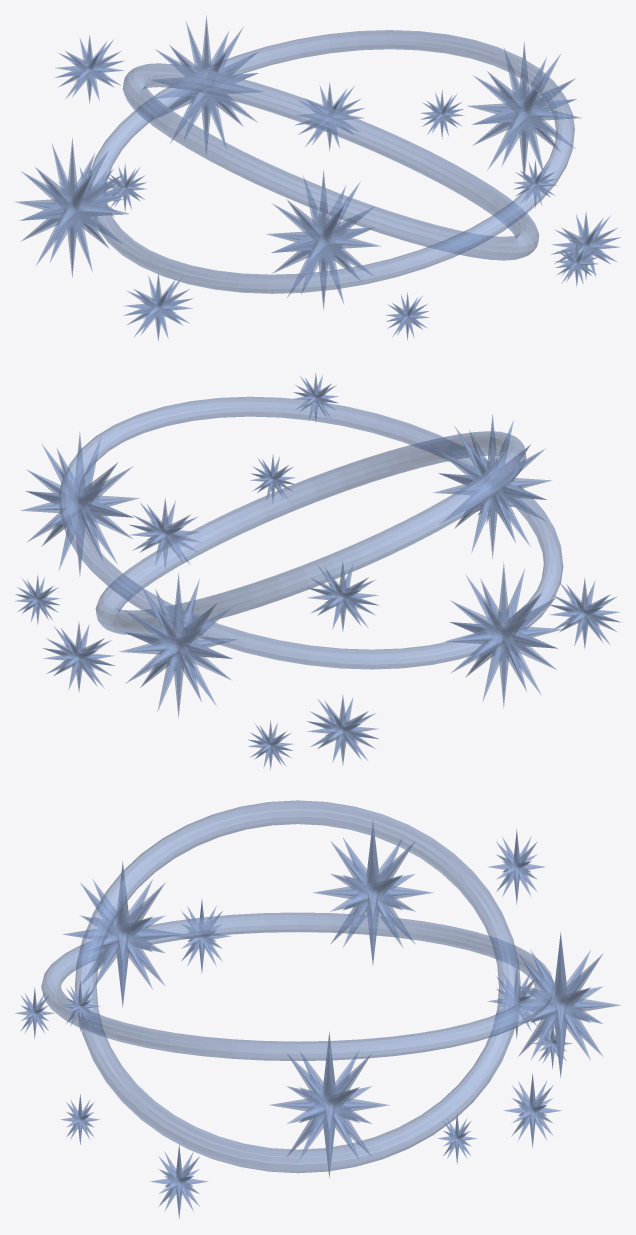
File: stars.fbx
3 renders of one model, top to bottom at view 1: azimuth 30°, elevation 25°; view 2: azimuth 150°, elevation 25°; view 3: azimuth 270°, elevation 25°, orthographic. The views are drawn at different scales.
Visible parts, largest first — view 1: Torus.001, Torus, objStar.001, objStar.003, objStar.002, objStar, objStar.013, objStar.005, objStar.006, objStar.004, objStar.010, objStar.011 (+3 smaller); view 2: Torus.001, Torus, objStar.001, objStar, objStar.003, objStar.002, objStar.006, objStar.008, objStar.005, objStar.013, objStar.004, objStar.011 (+3 smaller); view 3: Torus.001, Torus, objStar.003, objStar.001, objStar, objStar.002, objStar.013, objStar.004, objStar.006, objStar.005, objStar.008, objStar.011 (+3 smaller).
Part boxes in pixels (x1,y1,x2,y2): Torus.001: (122, 63, 539, 260); Torus: (88, 30, 574, 293); objStar.001: (15, 138, 129, 277); objStar.003: (467, 42, 580, 181); objStar.002: (266, 170, 380, 309); objStar: (151, 15, 262, 153); objStar.013: (54, 35, 124, 103); objStar.005: (123, 273, 193, 341); objStar.006: (295, 82, 364, 150); objStar.004: (551, 212, 620, 279); objStar.010: (555, 238, 598, 286); objStar.011: (420, 89, 463, 138); Torus.001: (95, 431, 526, 634); Torus: (58, 396, 563, 669); objStar.001: (444, 562, 562, 708); objStar: (119, 573, 236, 717); objStar.003: (21, 432, 139, 576); objStar.002: (433, 414, 551, 558); objStar.006: (42, 622, 114, 691); objStar.008: (307, 695, 379, 765); objStar.005: (548, 577, 620, 649); objStar.013: (307, 561, 379, 631); objStar.004: (129, 498, 199, 567); objStar.011: (15, 574, 60, 625); Torus.001: (74, 800, 520, 1173); Torus: (41, 912, 554, 1060); objStar.003: (269, 1032, 389, 1177); objStar.001: (313, 823, 432, 964); objStar: (502, 932, 620, 1077); objStar.002: (62, 861, 182, 1007); objStar.013: (488, 828, 545, 904); objStar.004: (150, 1143, 207, 1219); objStar.006: (503, 1073, 561, 1147); objStar.005: (174, 899, 231, 973); objStar.008: (487, 969, 536, 1039); objStar.011: (437, 1112, 476, 1164).
Size of the model in its own units: 261 by 103 by 246.
